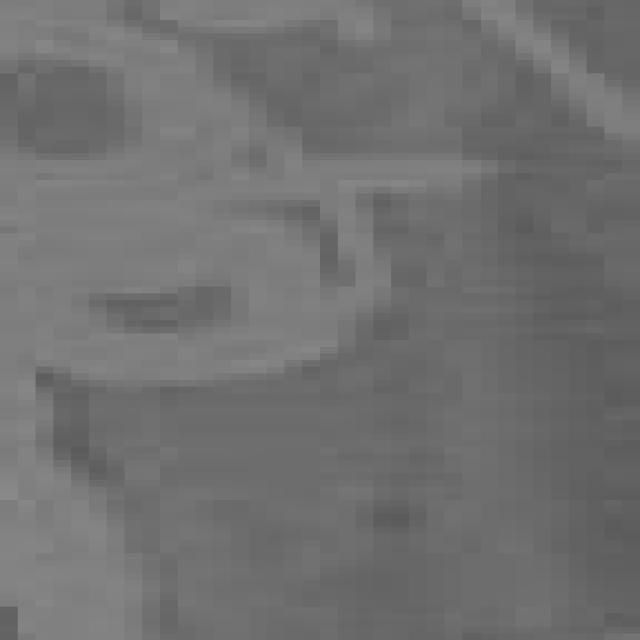fracture: (4, 0, 638, 639)
